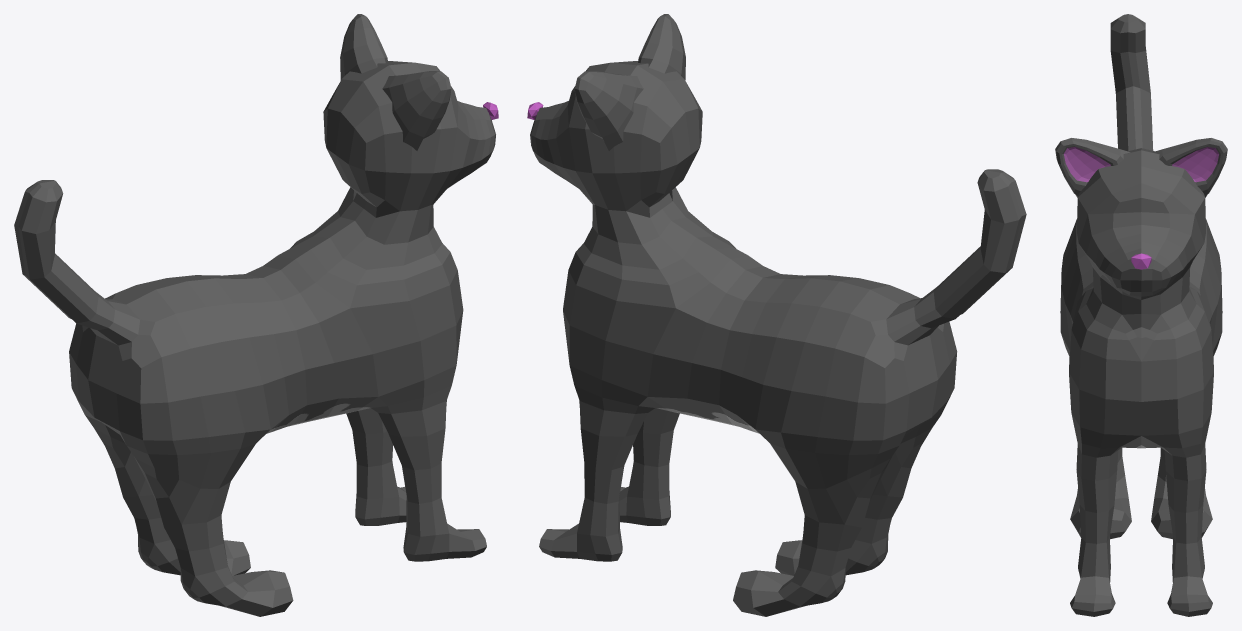
Rendered from Cat.obj.
3 views of the same model, side by side, from view 1: azimuth 30°, elevation 25°; view 2: azimuth 150°, elevation 25°; view 3: azimuth 270°, elevation 25° (orthographic). The views are drawn at different scales.
Visible parts, largest first — view 1: Cat; view 2: Cat; view 3: Cat.
Part boxes in pixels (x1,y1,x2,y2): Cat: (14, 14, 498, 616); Cat: (527, 14, 1026, 616); Cat: (1055, 14, 1227, 616).
Size of the model in its own units: 4.01 by 4.01 by 1.34.
Materials: 1 (1 with a texture image).
